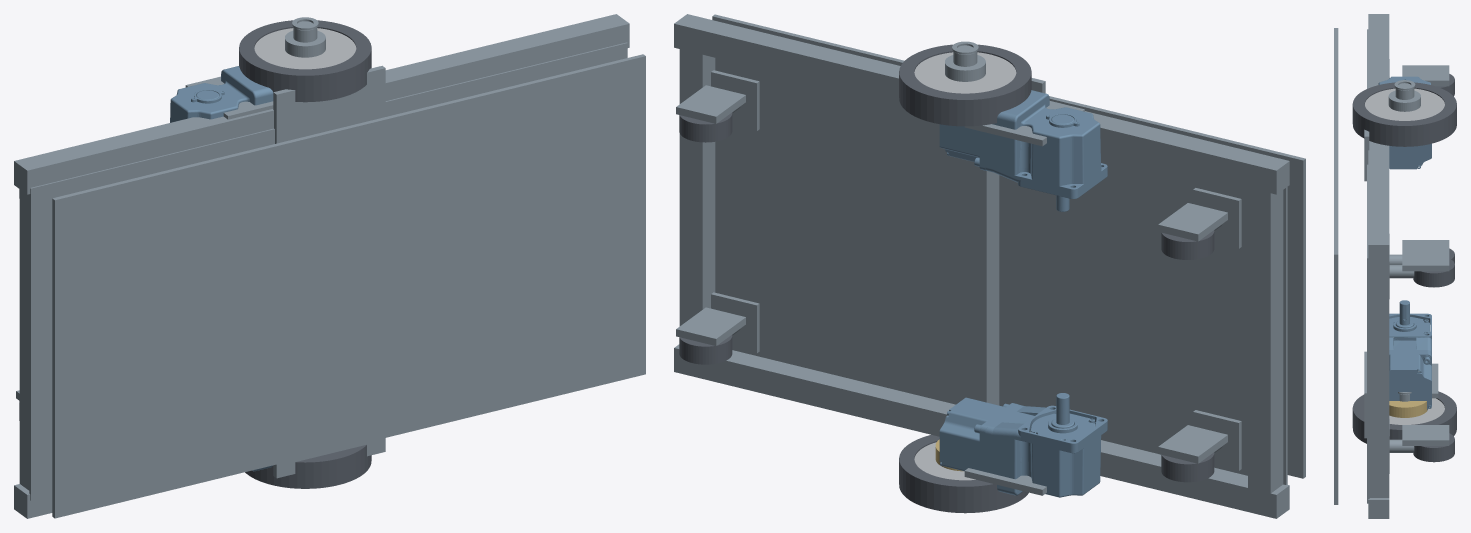
Rendered from A10_BASE_ROULANTE.glb.
The picture shows the model from 3 angles, left to right: view 1: azimuth 30°, elevation 25°; view 2: azimuth 150°, elevation 25°; view 3: azimuth 270°, elevation 25°; orthographic projection. The views are drawn at different scales.
Parts seen in each view (by area): view 1: C04_6, C01_1, C03_5, R01_25, C06_8, C02_2, M01_D_13, R01_17, R02_26, C01_0, C06_7; view 2: C03_5, C01_1, C01_0, M01_9, C02_2, M01_D_13, C04_6, C02_3, C02_4, R01_25, R01_17, R02_26 (+15 smaller); view 3: C02_4, C01_1, M01_9, R01_25, C04_6, R02_26, R01_17, M01_D_13, S02_46, C03_5, S02_42, S02_38 (+16 smaller).
Part boxes in pixels (box(x1,y1,x2,y2)): C04_6: box(52, 54, 645, 518); C01_1: box(14, 14, 629, 194); C03_5: box(29, 42, 627, 500); R01_25: box(239, 20, 371, 102); C06_8: box(273, 65, 385, 143); C02_2: box(19, 189, 29, 490); M01_D_13: box(170, 66, 273, 122); R01_17: box(245, 444, 371, 488); R02_26: box(254, 28, 356, 69); C01_0: box(14, 484, 52, 518); C06_7: box(273, 438, 385, 478); C03_5: box(715, 58, 1287, 484); C01_1: box(674, 14, 1289, 194); C01_0: box(674, 344, 1289, 518); M01_9: box(939, 393, 1107, 497); C02_2: box(1248, 185, 1283, 493); M01_D_13: box(939, 90, 1107, 211); C04_6: box(712, 14, 1305, 478); C02_3: box(964, 159, 999, 405); C02_4: box(679, 44, 715, 326); R01_25: box(899, 44, 1031, 126); R01_17: box(899, 434, 1028, 513); R02_26: box(914, 52, 1016, 93); C02_4: box(1369, 264, 1389, 497); C01_1: box(1368, 14, 1389, 263); M01_9: box(1389, 300, 1431, 410); R01_25: box(1352, 82, 1456, 146); C04_6: box(1334, 28, 1338, 504); R02_26: box(1365, 88, 1444, 120); R01_17: box(1352, 391, 1456, 443); M01_D_13: box(1378, 76, 1431, 169); S02_46: box(1402, 250, 1449, 271); C03_5: box(1367, 29, 1369, 503); S02_42: box(1402, 425, 1449, 445); S02_38: box(1402, 65, 1449, 86).
Bounding box in the file's own units: 1050 × 768 × 236.
